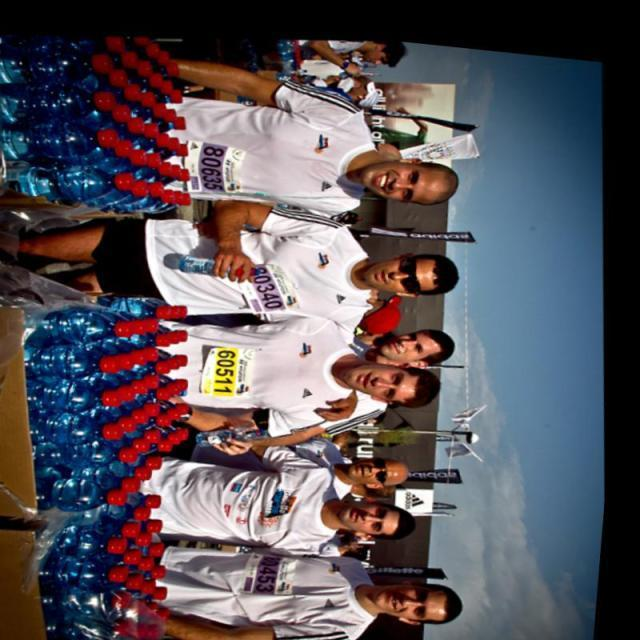dorsal: (232, 240, 314, 318), (176, 129, 260, 204), (191, 330, 276, 403), (235, 534, 318, 600)
